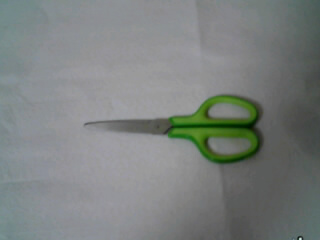003_classes: (79, 90, 259, 171)
